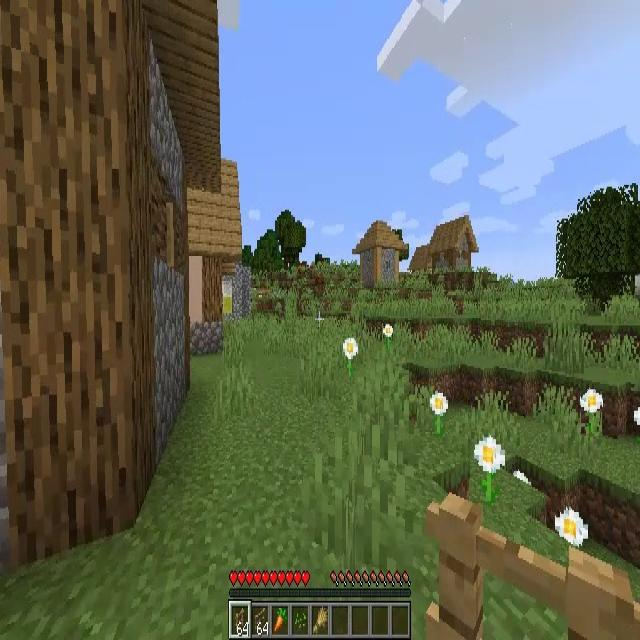flower: (474, 436, 504, 502), (555, 508, 588, 546), (581, 390, 602, 436), (431, 391, 448, 435), (344, 337, 358, 376), (382, 324, 393, 349)
